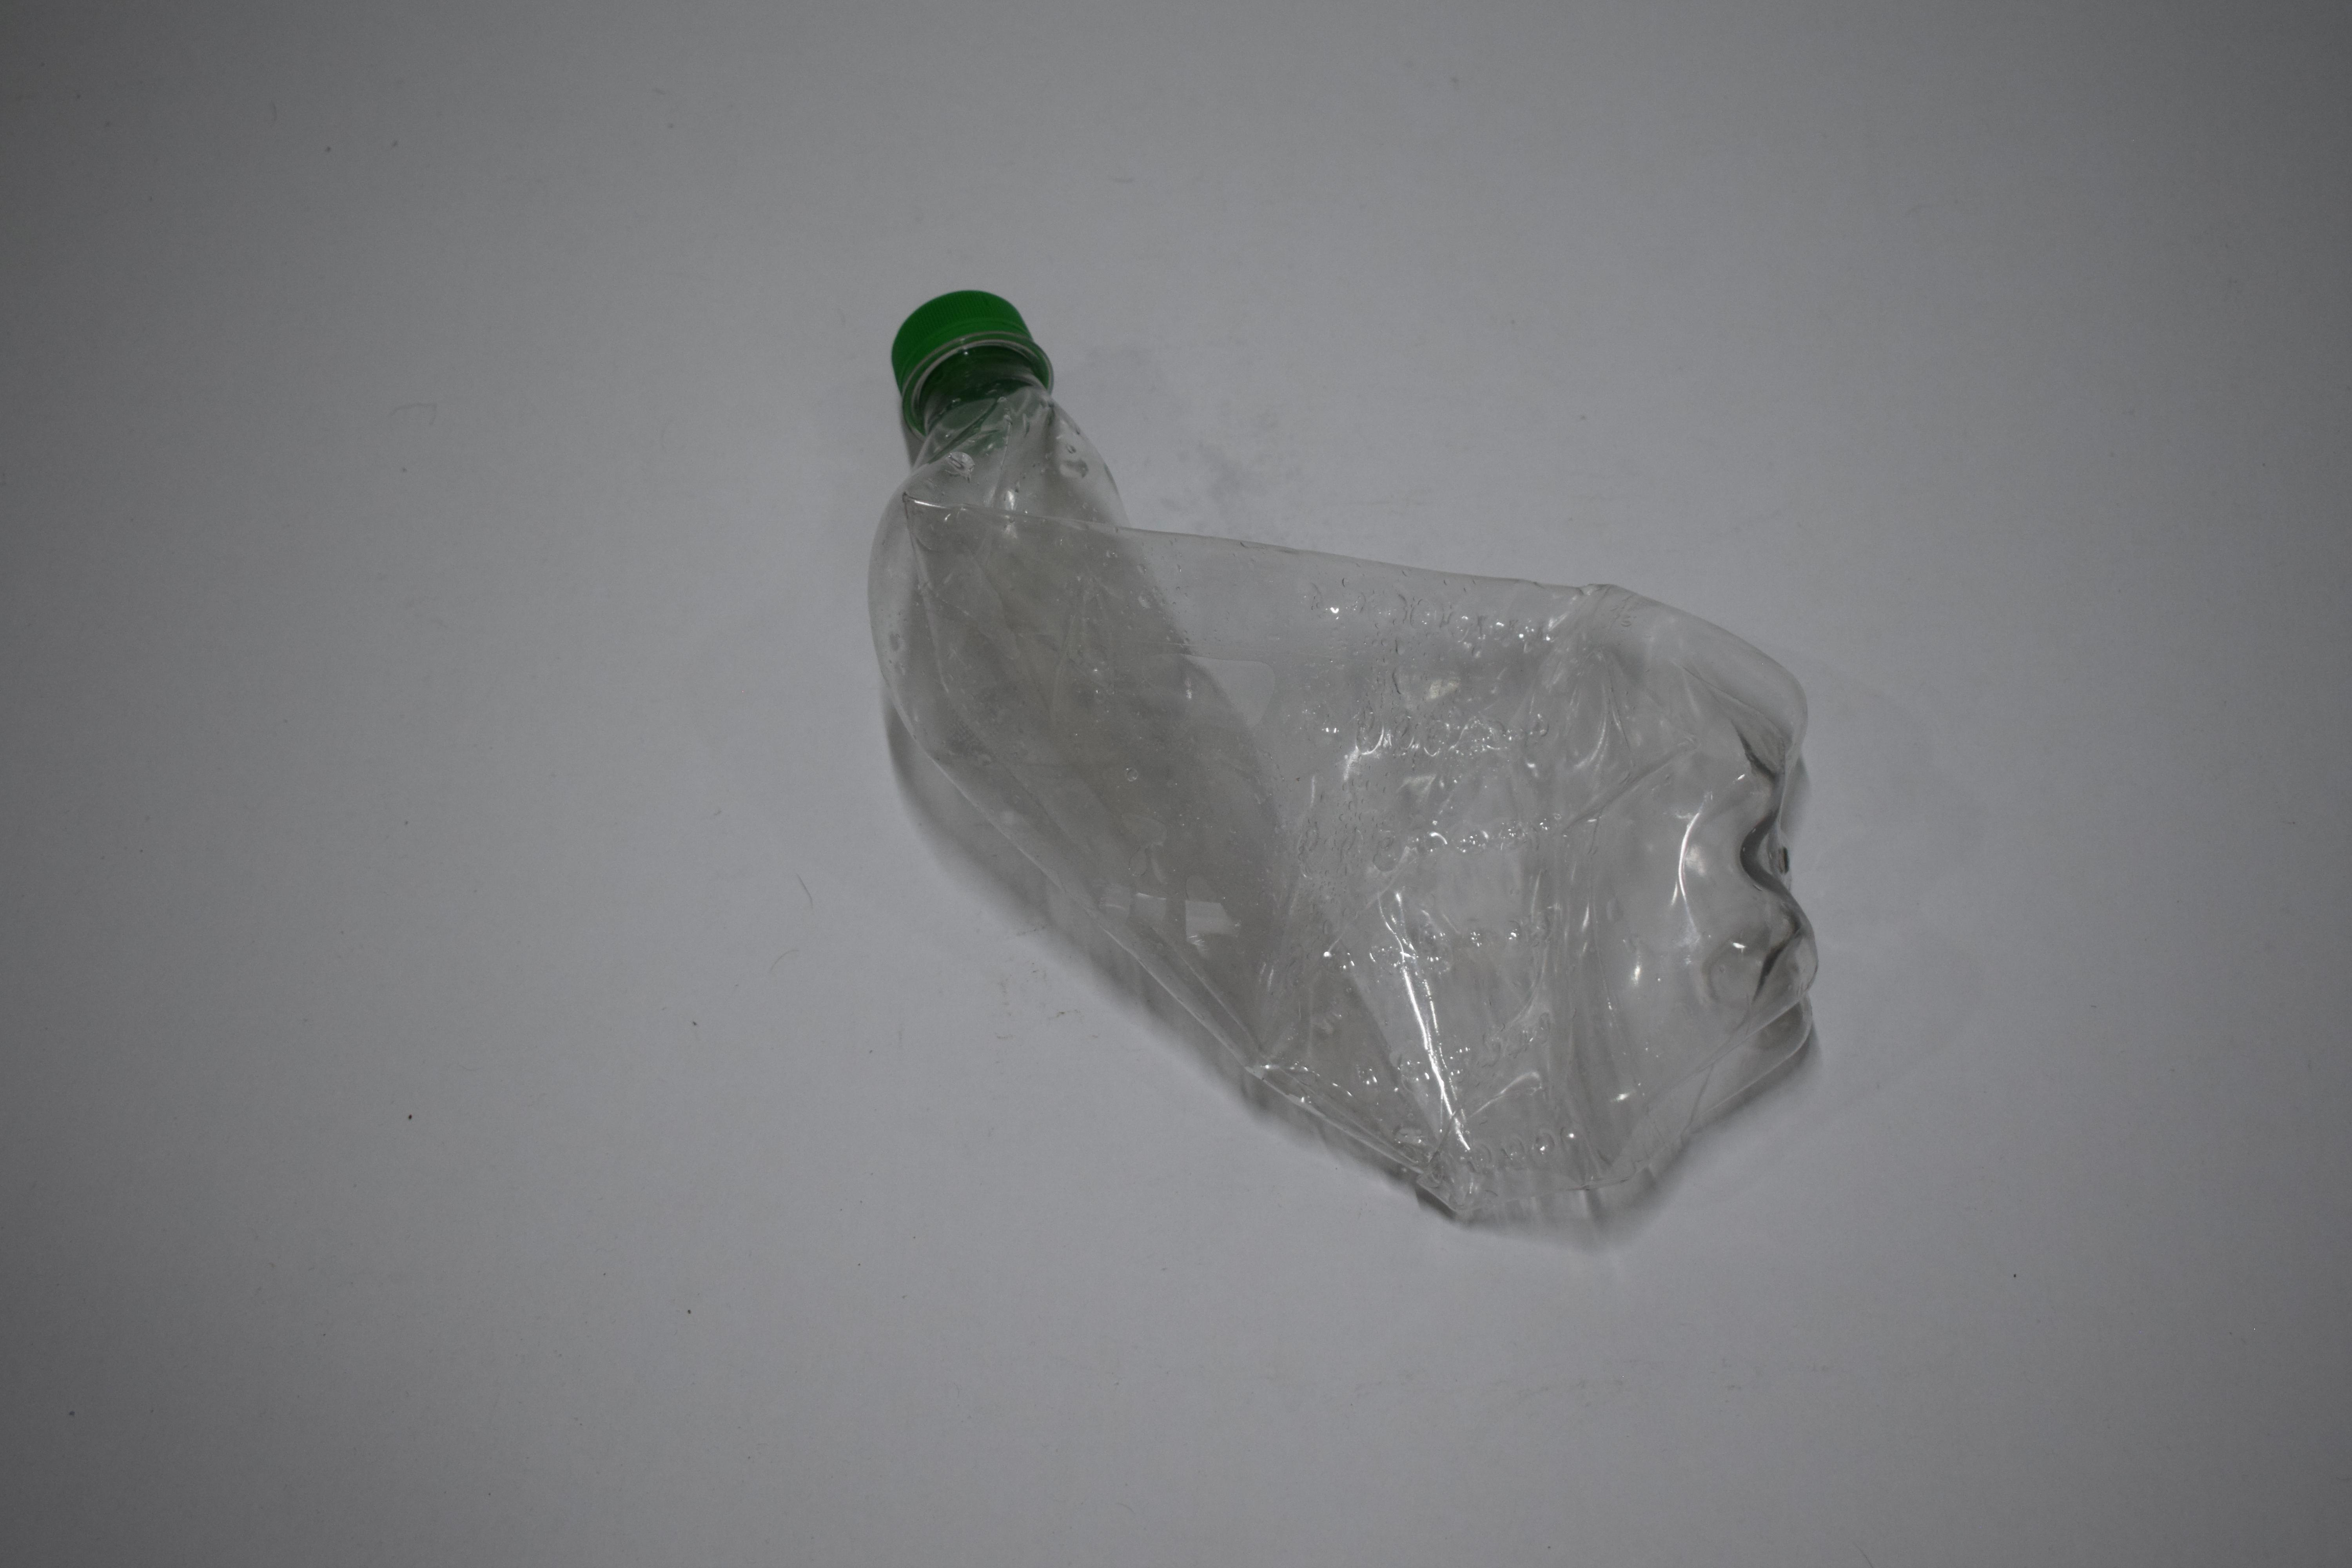bottle: (0, 278, 653, 1234)
